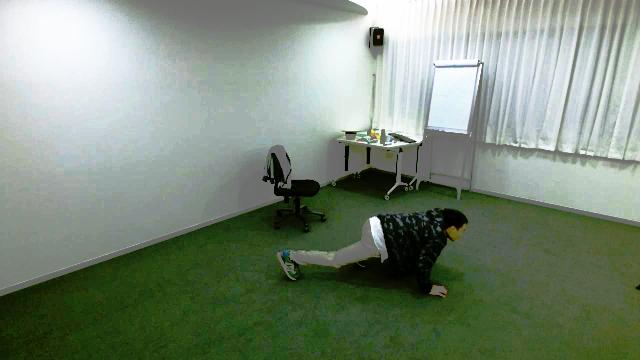jatuh: (273, 207, 479, 304)
